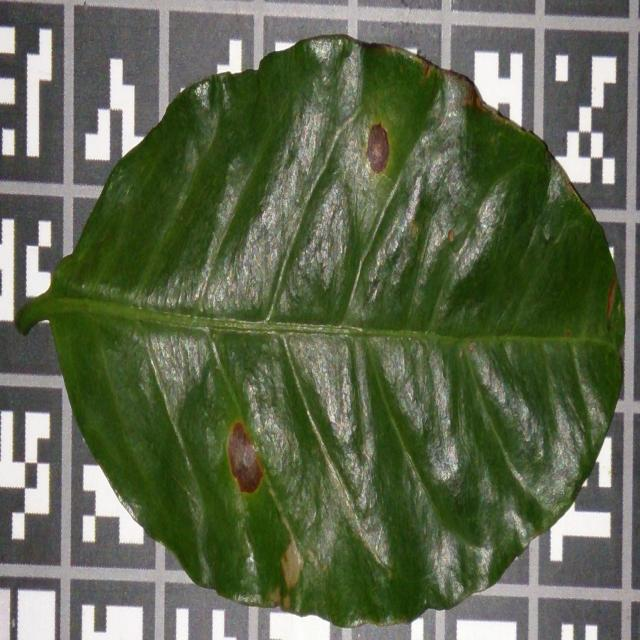Enfermedad-Mancha-de-hierro: (14, 37, 628, 631)
